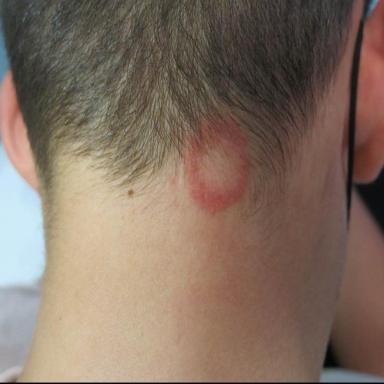Tinea-Corporis: (181, 115, 250, 214)
